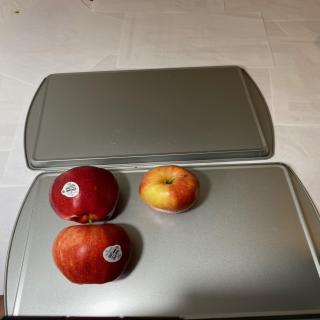Apple: (52, 220, 132, 285), (49, 165, 120, 224), (139, 164, 200, 213)
